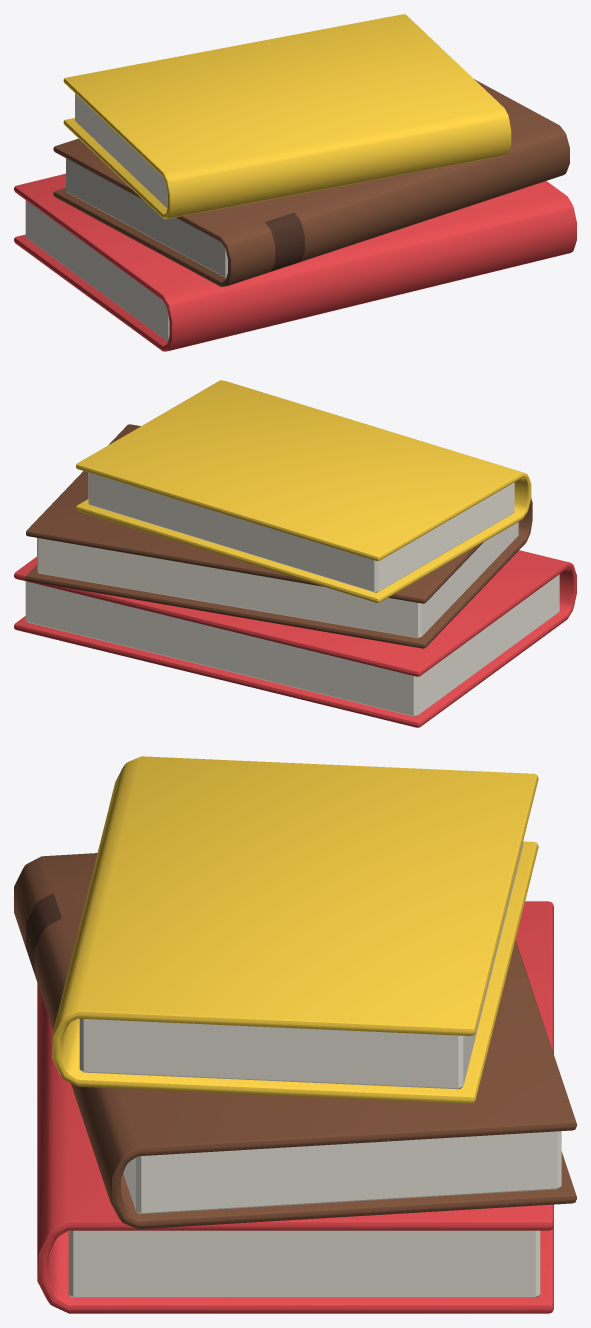
File: livros_pilha_tres.glb
3 renders of one model, top to bottom at view 1: azimuth 30°, elevation 25°; view 2: azimuth 150°, elevation 25°; view 3: azimuth 270°, elevation 25°, orthographic. The views are drawn at different scales.
Visible parts, largest first — view 1: livros_pilha_tres; view 2: livros_pilha_tres; view 3: livros_pilha_tres.
Part boxes in pixels (x1,y1,x2,y2): livros_pilha_tres: (14, 14, 576, 351); livros_pilha_tres: (14, 380, 576, 727); livros_pilha_tres: (14, 756, 576, 1313).
Size of the model in its own units: 0.2594 by 0.093 by 0.1846.
1 material, 1 textured.
